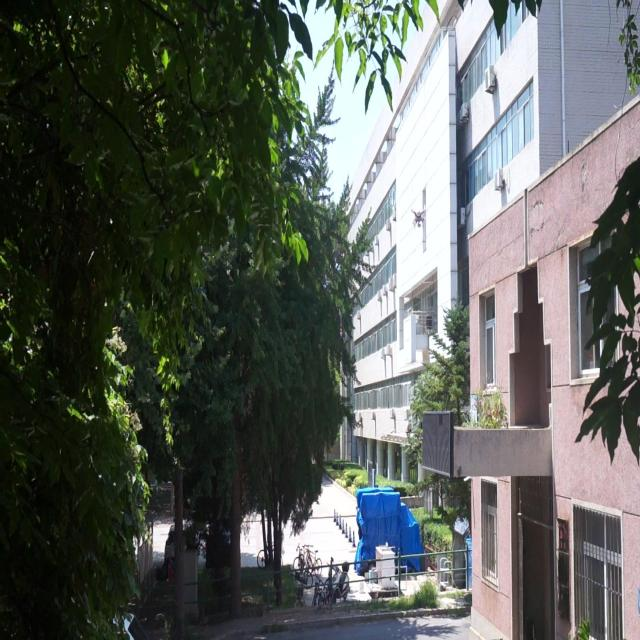drone: (409, 206, 426, 233)
